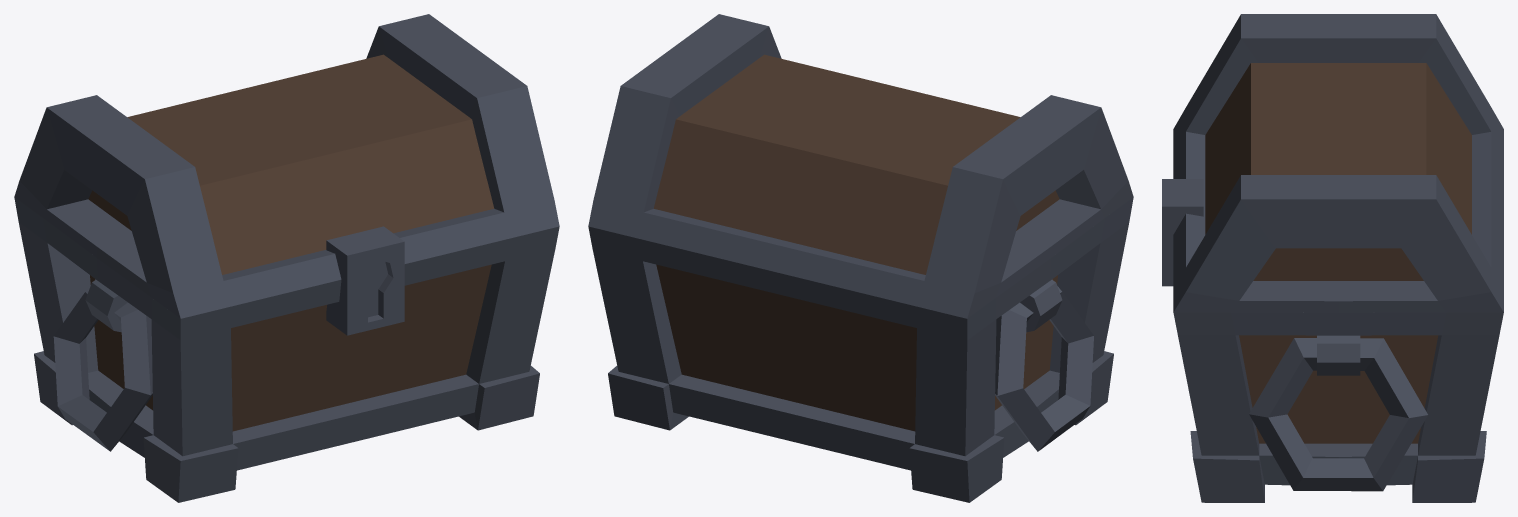
File: r_chest.fbx
3 views of the same model, side by side, from view 1: azimuth 30°, elevation 25°; view 2: azimuth 150°, elevation 25°; view 3: azimuth 270°, elevation 25° (orthographic).
Visible parts, largest first — view 1: chest_top, chest_bottom; view 2: chest_top, chest_bottom; view 3: chest_top, chest_bottom.
Boxes of the visible parts, x1,y1,x2,y2 form: chest_top: [14, 14, 559, 335]; chest_bottom: [14, 197, 559, 502]; chest_top: [588, 14, 1133, 318]; chest_bottom: [588, 197, 1133, 502]; chest_top: [1162, 14, 1503, 312]; chest_bottom: [1173, 312, 1503, 502].
Size of the model in its own units: 111 by 78.61 by 78.51.
